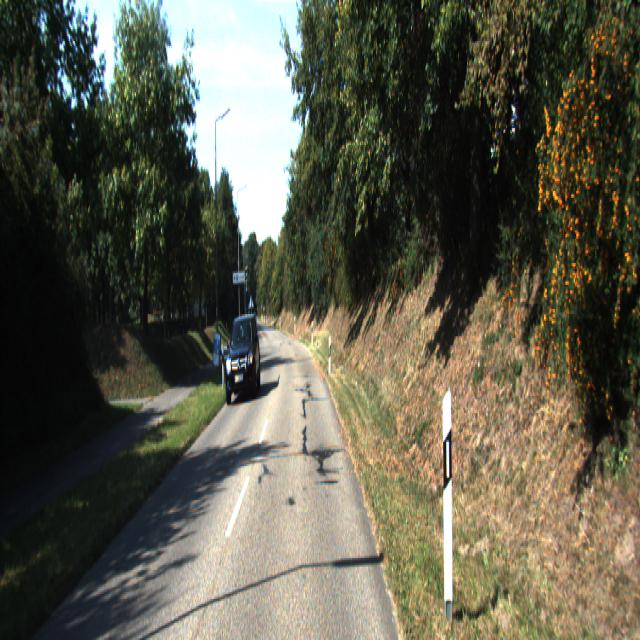Car: (225, 312, 261, 406)
